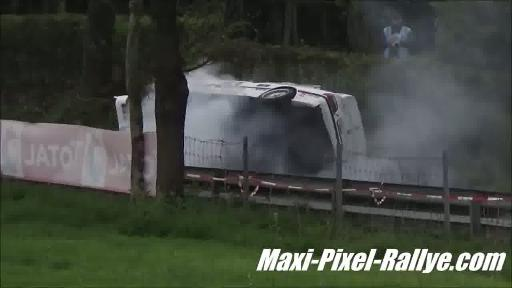Accident: (118, 51, 405, 191)
